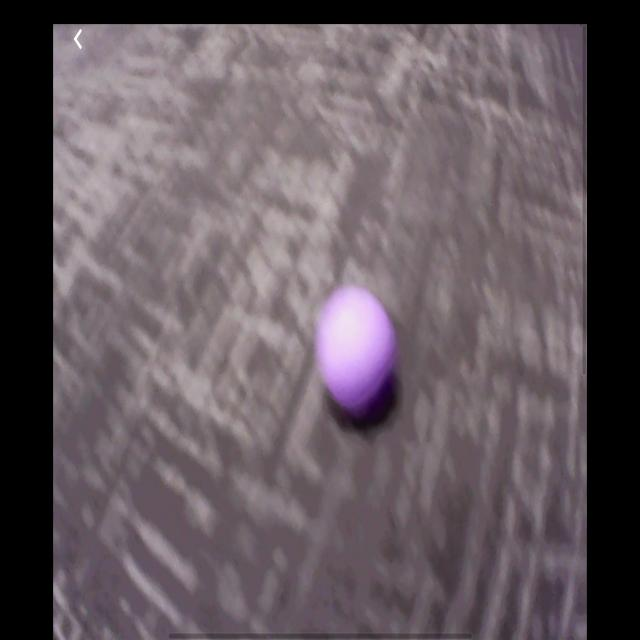ball: (317, 287, 398, 412)
